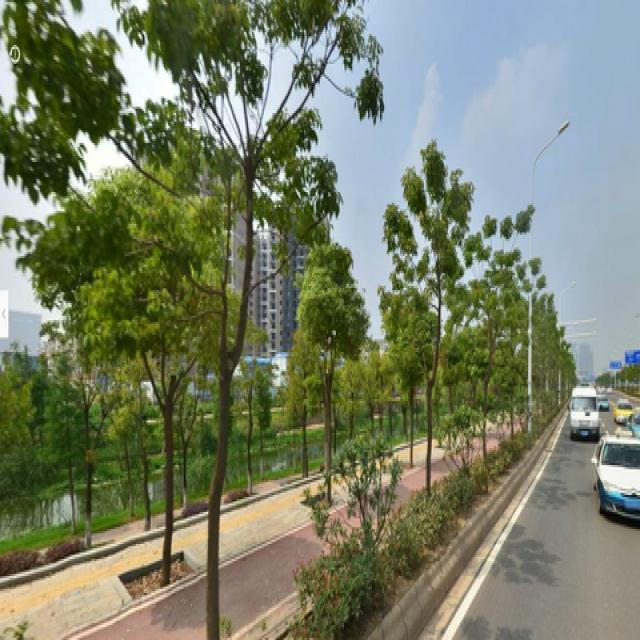cinn: (308, 252, 344, 497)
